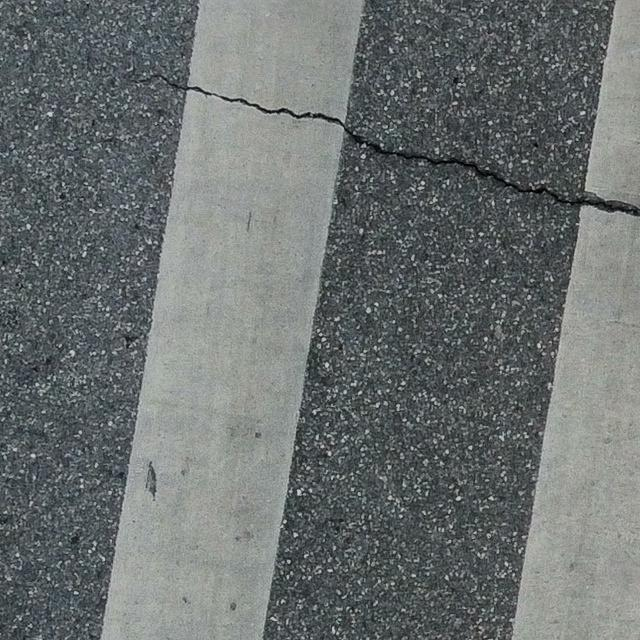TransverseCrack: (129, 72, 640, 217)
